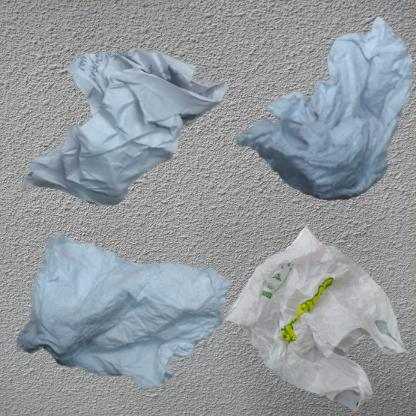bolsa: (213, 213, 416, 416)
papel: (10, 10, 264, 287), (10, 213, 265, 416), (213, 10, 416, 235)
